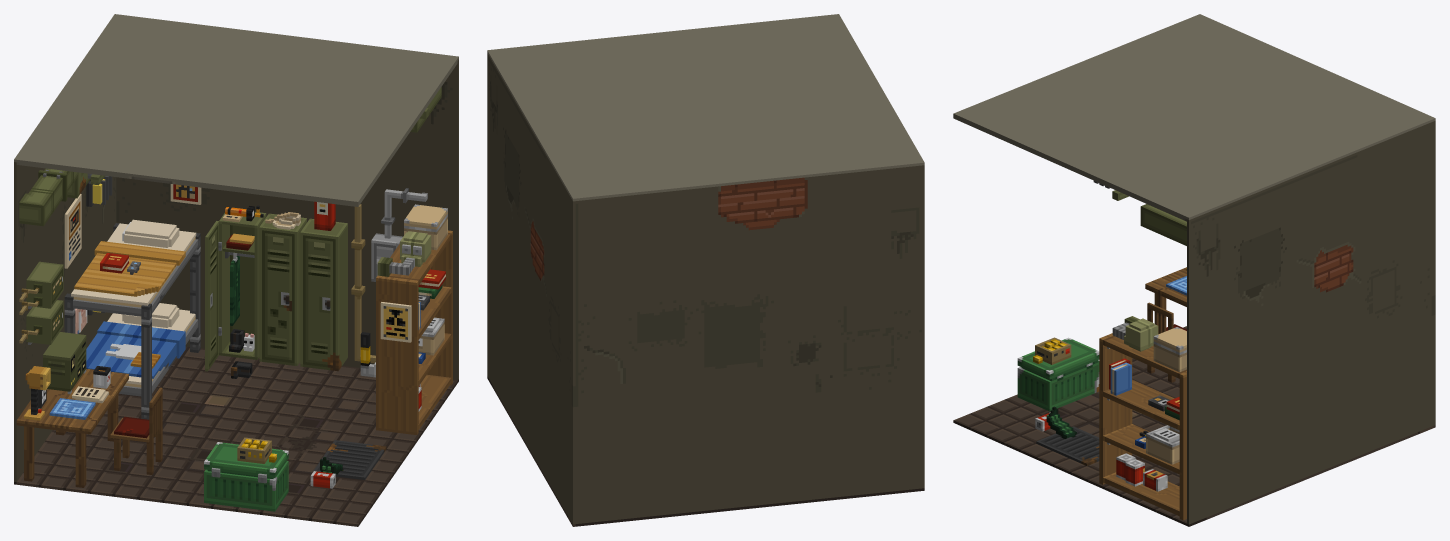
Rendered from room_bunker.glb.
3 renders of one model, left to right at view 1: azimuth 30°, elevation 25°; view 2: azimuth 150°, elevation 25°; view 3: azimuth 270°, elevation 25°, orthographic. The views are drawn at different scales.
Parts seen in each view (by area): view 1: palette__geom.006; view 2: palette__geom.006; view 3: palette__geom.006.
Part boxes in pixels (x1=…): palette__geom.006: x1=14, y1=14, x2=458, y2=526; palette__geom.006: x1=487, y1=14, x2=924, y2=526; palette__geom.006: x1=953, y1=14, x2=1435, y2=526.
Size of the model in its own units: 131 by 92.76 by 131.
1 material, 1 textured.
